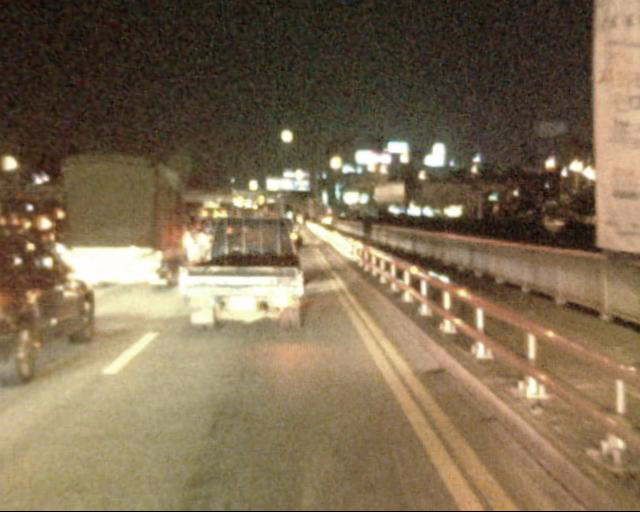person: (359, 211, 379, 251)
